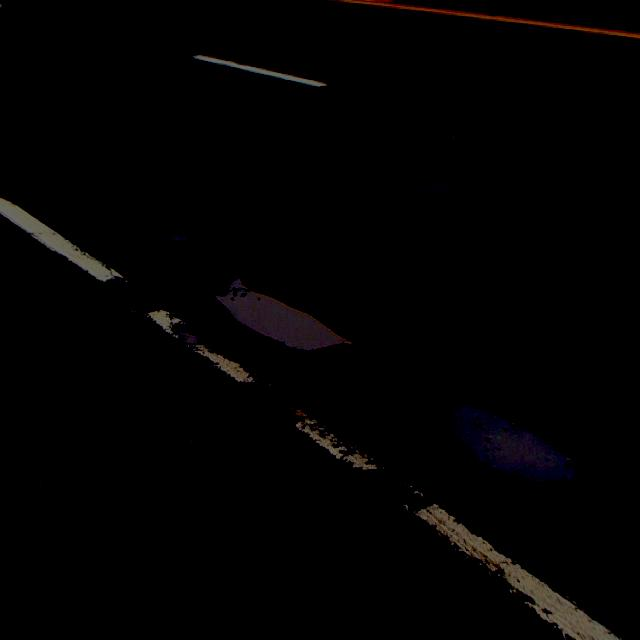Pothole: (162, 197, 640, 513)
